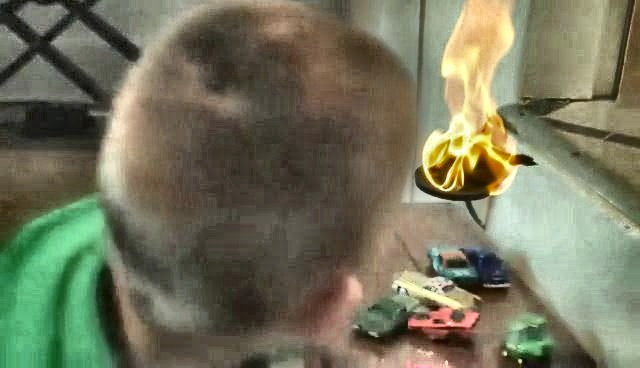fire: (420, 0, 545, 201)
